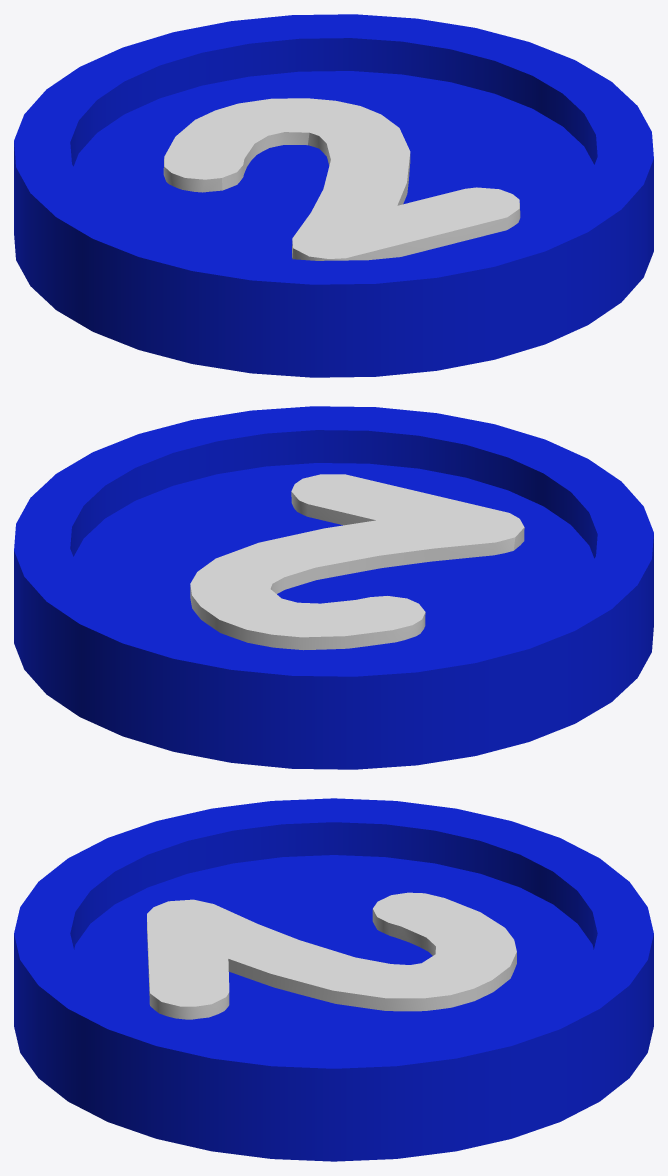
Rendered from TokenPlayer2.fbx.
3 renders of one model, top to bottom at view 1: azimuth 30°, elevation 25°; view 2: azimuth 150°, elevation 25°; view 3: azimuth 270°, elevation 25°, orthographic.
Visible parts, largest first — view 1: P2, Text; view 2: P2, Text; view 3: P2, Text.
Boxes of the visible parts, left/top/right/bottom form: P2: left=14, top=14, right=653, bottom=377; Text: left=163, top=98, right=520, bottom=260; P2: left=14, top=406, right=653, bottom=769; Text: left=190, top=474, right=524, bottom=650; P2: left=14, top=798, right=653, bottom=1161; Text: left=147, top=892, right=516, bottom=1019.
Size of the model in its own units: 200 by 32 by 200.
